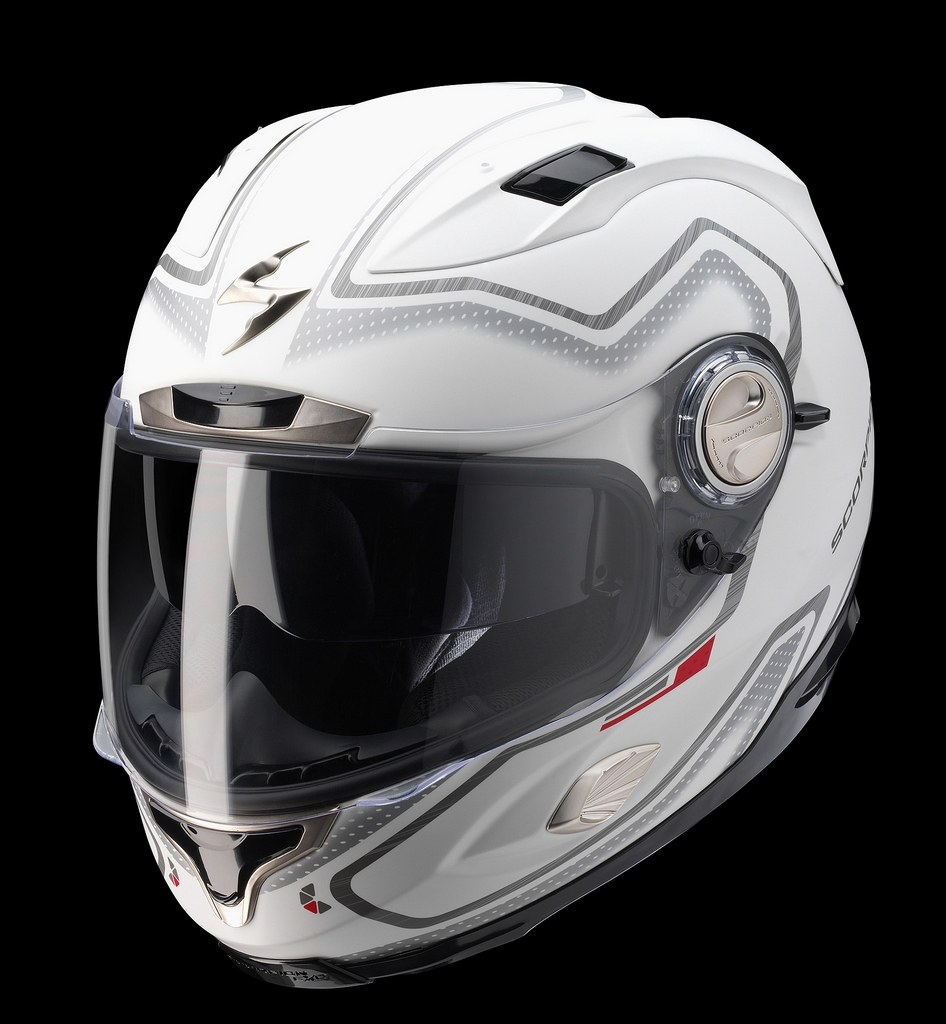helmet: (83, 117, 829, 895)
